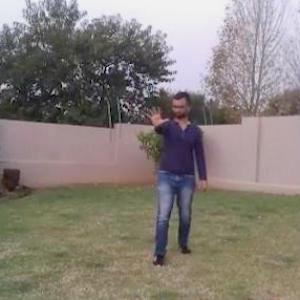follow_hand: (145, 103, 168, 130)
